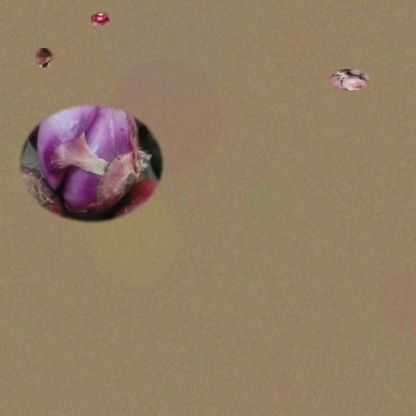damaged: (15, 102, 167, 226)
healthy: (90, 12, 110, 25)
sprouted: (328, 69, 370, 90), (36, 48, 53, 67)
